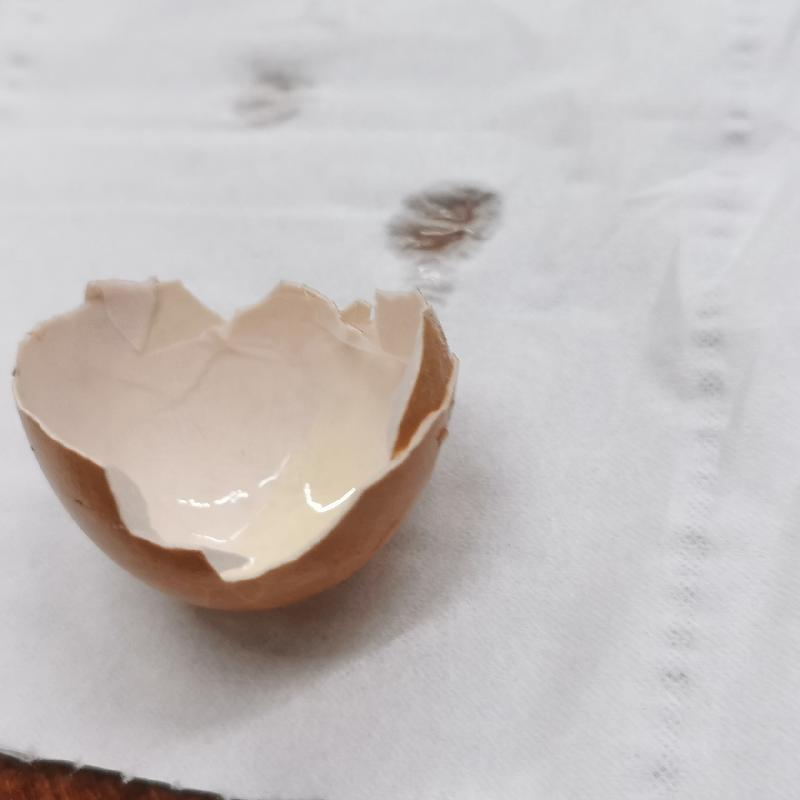eggshell: (11, 278, 457, 619)
